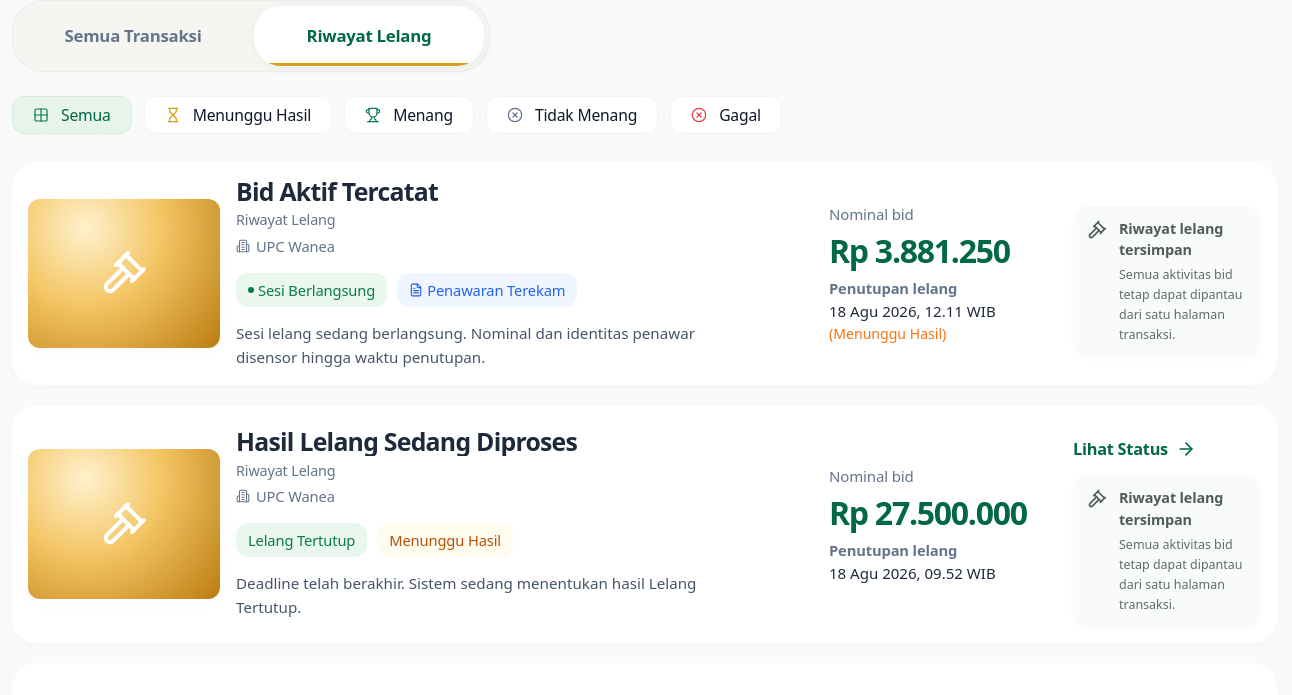
TransactionsPage › groups active and closed unresolved bids in Menunggu Hasil while keeping the other bid filters exact
Click the button "Menunggu Hasil". click: (238, 115)
box: [144,96,332,134]
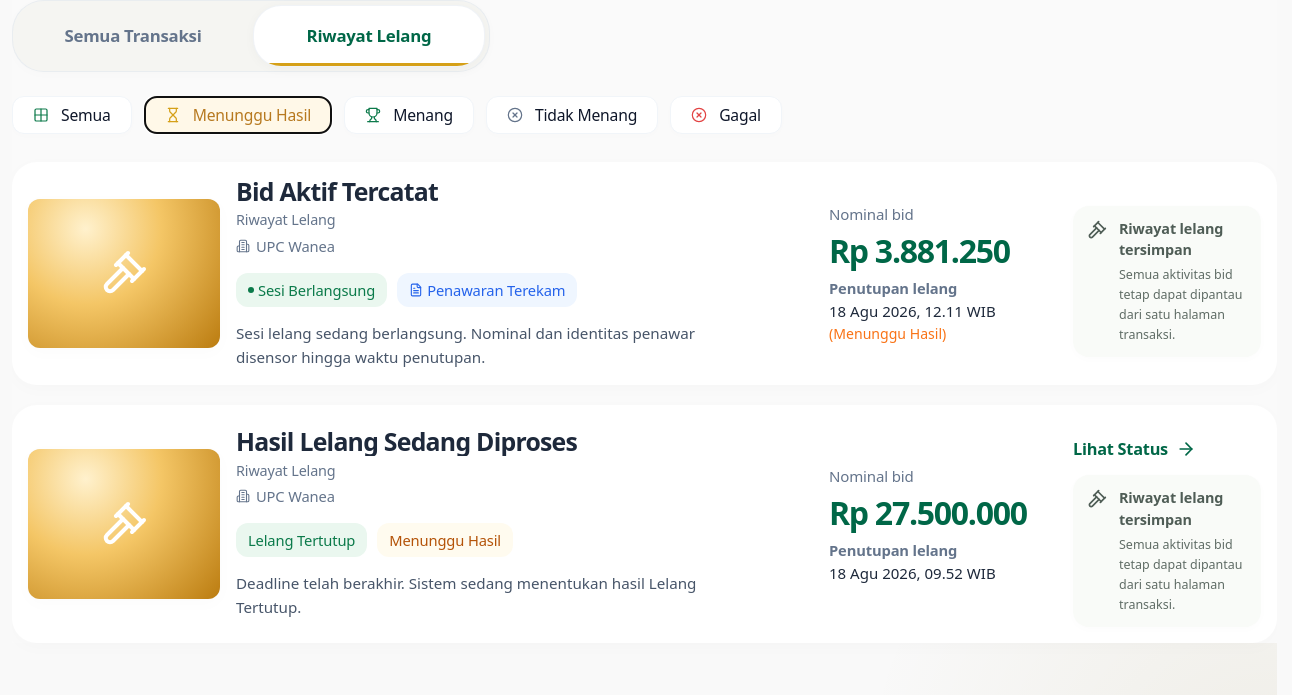
Check: the heading "Bid Aktif Tercatat" is shown, box [236,174,438,208]
Check: the heading "Hasil Lelang Sedang Diproses" is shown, box [236,424,577,458]
Click the button "Menang". click: (409, 115)
box: [344,96,474,134]
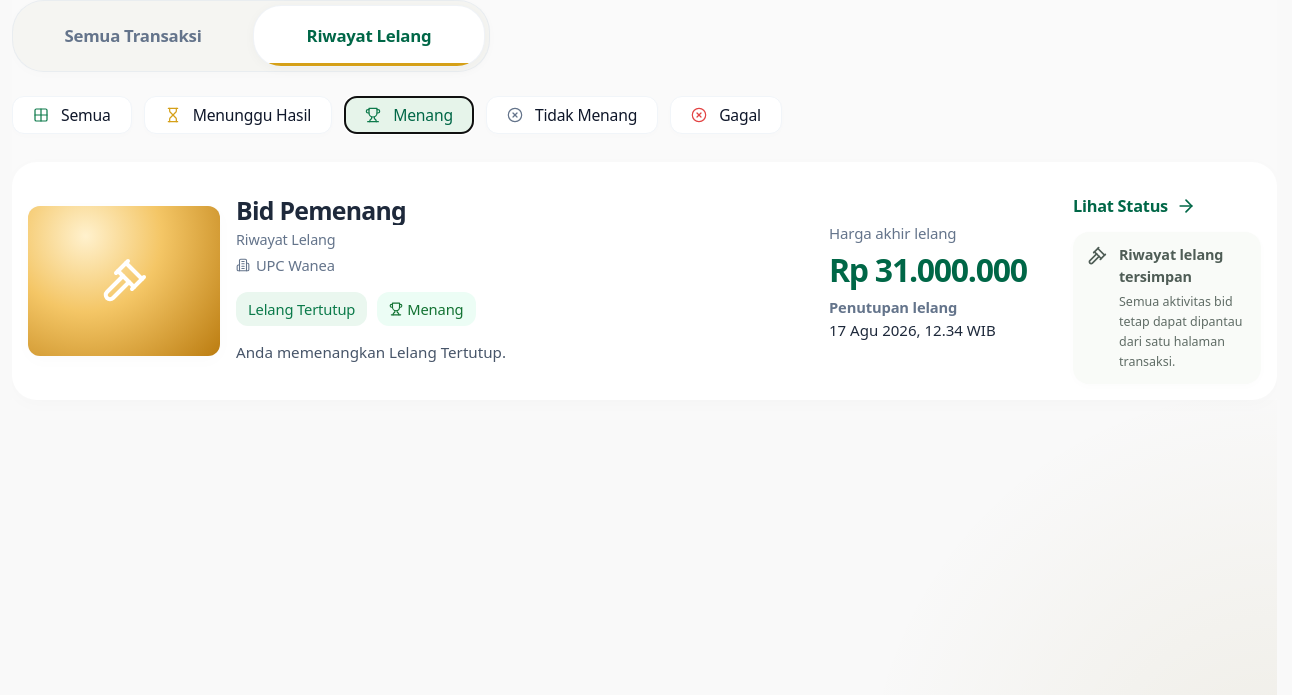
Check: the heading "Bid Pemenang" is shown, box [236,193,406,227]
Check: the heading "Bid Aktif Tercatat" is gone
Click the button "Tidak Menang". click: (572, 115)
box: [486,96,658,134]
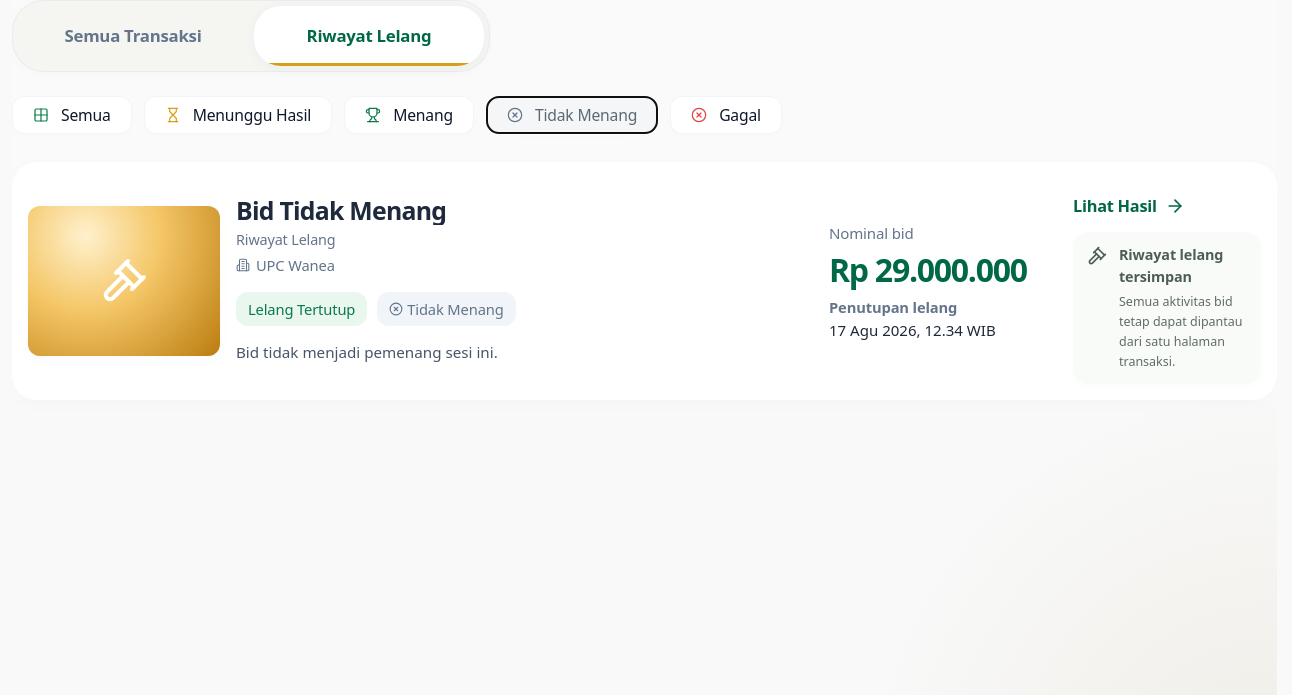
Check: the heading "Bid Tidak Menang" is shown, box [236,193,446,227]
Check: the heading "Bid Pemenang" is gone
Click the button "Gagal". click: (726, 115)
box: [670,96,782,134]
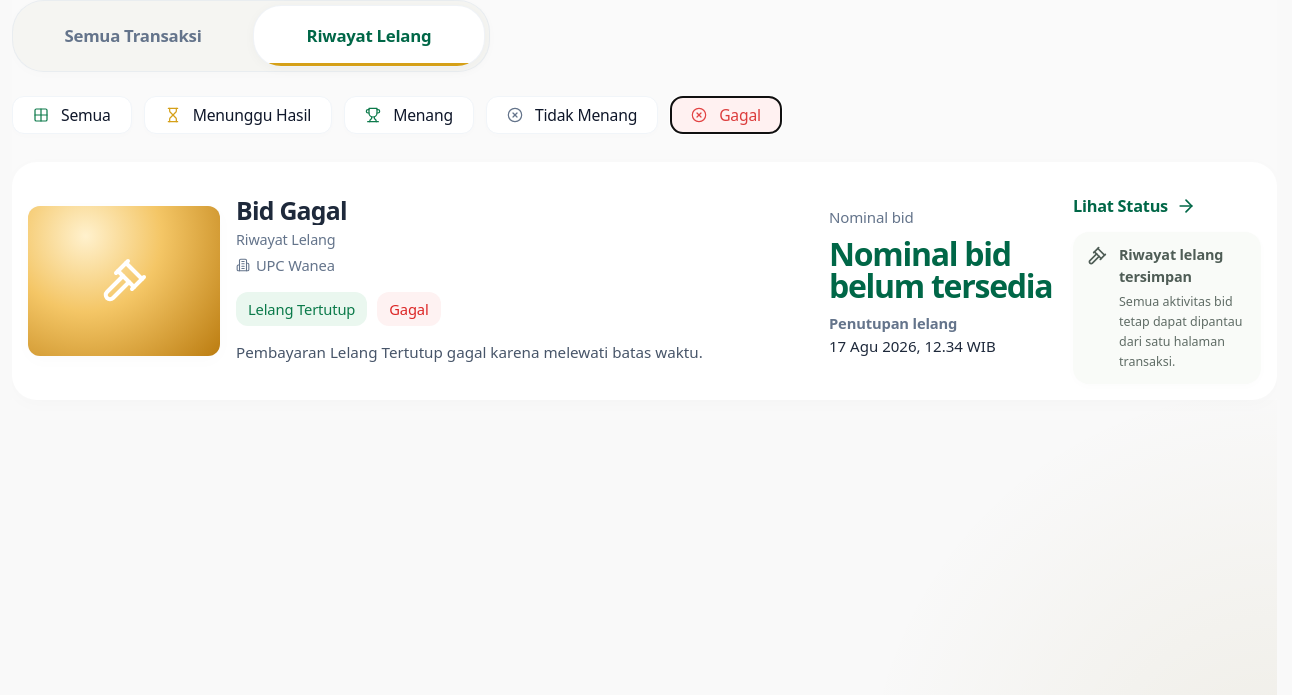
Check: the heading "Bid Gagal" is shown, box [236,193,347,227]
Check: the heading "Bid Tidak Menang" is gone
